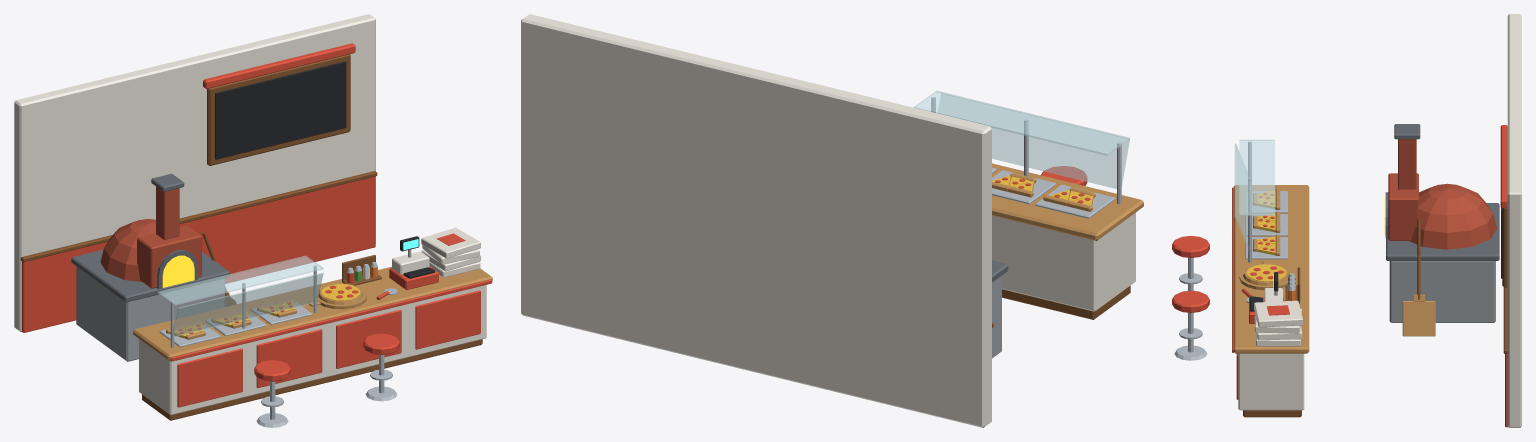
Rendered from pizza-shop-counter.glb.
3 views of the same model, side by side, from view 1: azimuth 30°, elevation 25°; view 2: azimuth 150°, elevation 25°; view 3: azimuth 270°, elevation 25° (orthographic). The views are drawn at different scales.
Visible parts, largest first — view 1: BackWall, BackWall_Wainscot, MenuBoard_Panel, Counter_Cabinet, Counter_Top, Oven_Plinth, Guard_Front, Counter_Panel_1, Counter_Panel_4, Guard_Shelf, MenuBoard_Frame, Oven_Hearth (+20 smaller); view 2: BackWall, Counter_Cabinet, Guard_Front, Guard_Shelf, Counter_Top, Counter_Kick, Tray_1_Pan, Oven_Plinth, Tray_2_Pan, Stool_1_Seat; view 3: BackWall, Counter_Top, Oven_Plinth, Oven_Dome, Counter_Cabinet, Guard_Shelf, Oven_Hearth, Oven_Entrance, Peel_Blade, Guard_Front, PizzaBox_4, Oven_Chimney (+15 smaller).
Boxes of the visible parts, x1,y1,x2,y2 form: BackWall: [14, 14, 375, 331]; BackWall_Wainscot: [22, 176, 375, 332]; MenuBoard_Panel: [215, 61, 346, 159]; Counter_Cabinet: [139, 285, 486, 415]; Counter_Top: [133, 266, 492, 360]; Oven_Plinth: [76, 266, 224, 361]; Guard_Front: [172, 272, 323, 336]; Counter_Panel_1: [177, 348, 242, 407]; Counter_Panel_4: [415, 290, 480, 349]; Guard_Shelf: [157, 255, 323, 305]; MenuBoard_Frame: [207, 54, 350, 165]; Oven_Hearth: [71, 249, 229, 302]; BackWall: [521, 14, 991, 427]; Counter_Cabinet: [992, 212, 1135, 311]; Guard_Front: [938, 93, 1129, 188]; Guard_Shelf: [914, 90, 1129, 155]; Counter_Top: [992, 163, 1143, 240]; Counter_Kick: [1002, 285, 1130, 319]; Tray_1_Pan: [1035, 184, 1115, 218]; Oven_Plinth: [992, 275, 1001, 358]; Tray_2_Pan: [992, 170, 1055, 204]; Stool_1_Seat: [1041, 166, 1087, 185]; BackWall: [1507, 14, 1521, 427]; Counter_Top: [1233, 185, 1309, 353]; Oven_Plinth: [1389, 261, 1495, 322]; Oven_Dome: [1409, 183, 1496, 249]; Counter_Cabinet: [1238, 353, 1304, 410]; Guard_Shelf: [1239, 139, 1274, 215]; Oven_Hearth: [1386, 203, 1499, 260]; Oven_Entrance: [1388, 173, 1418, 240]; Peel_Blade: [1402, 301, 1435, 336]; Guard_Front: [1234, 143, 1248, 250]; PizzaBox_4: [1254, 300, 1302, 327]; Oven_Chimney: [1398, 139, 1416, 189].
Bounding box in the file's own units: 18 × 11 × 14.8.
